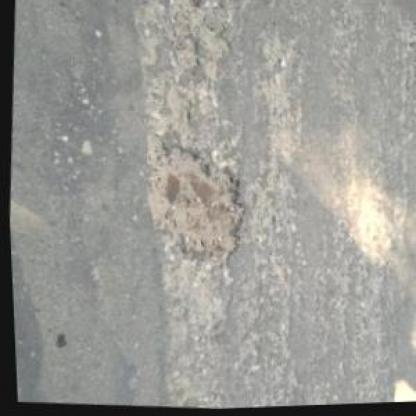pothole: (133, 134, 252, 276), (161, 0, 237, 79)
